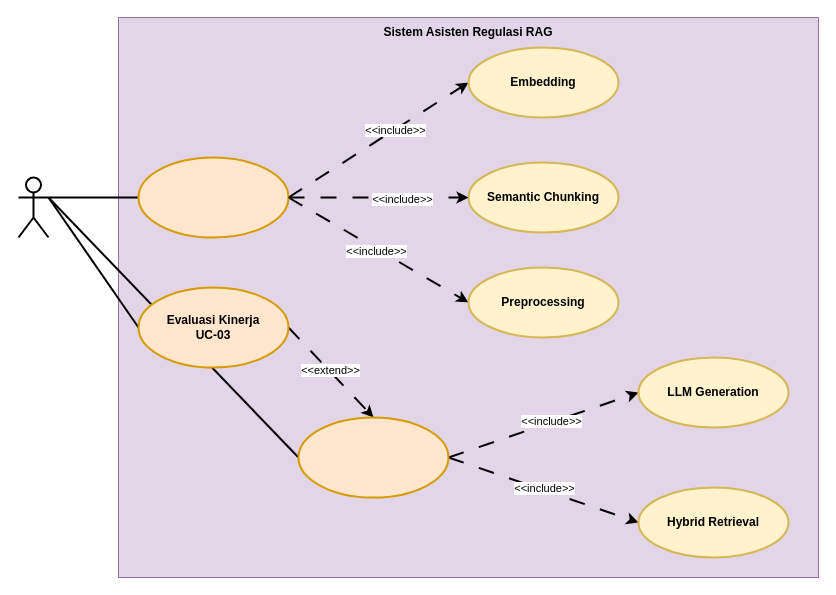
The diagram is 836 pixels wide and 595 high, and some of its shapes have lost their labels. Each missing label, with the centre of its shape:
"Indeksasi Dokumen UC-01" belongs at point (213, 197).
"Inferensi Tanya Jawab UC-02" belongs at point (373, 457).
"User" belongs at point (33, 207).
